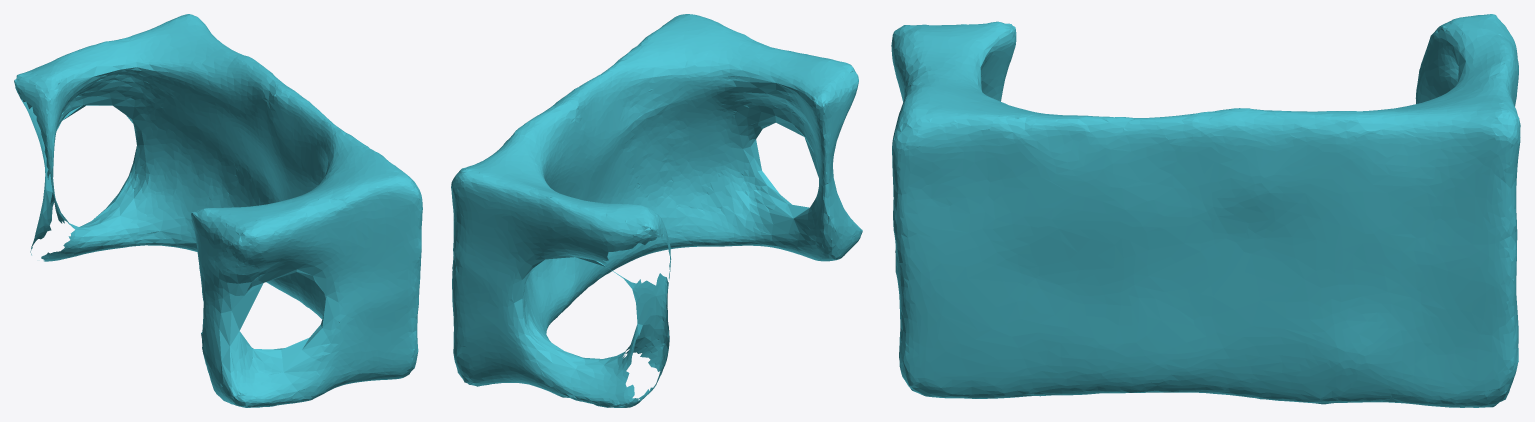
The picture shows the model from 3 angles, left to right: view 1: azimuth 30°, elevation 25°; view 2: azimuth 150°, elevation 25°; view 3: azimuth 270°, elevation 25°; orthographic projection. The views are drawn at different scales.
Parts seen in each view (by area): view 1: Renderer Node; view 2: Renderer Node; view 3: Renderer Node.
Part boxes in pixels (x1=…): Renderer Node: x1=14, y1=14, x2=422, y2=407; Renderer Node: x1=451, y1=14, x2=862, y2=407; Renderer Node: x1=891, y1=14, x2=1520, y2=407.
Size of the model in its own units: 0.3681 by 0.3838 by 0.7331.
1 material, 1 textured.
